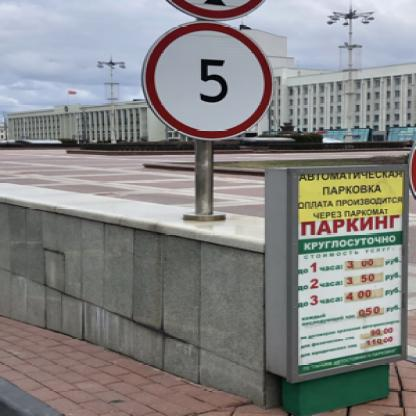speedlimit: (139, 18, 272, 140)
